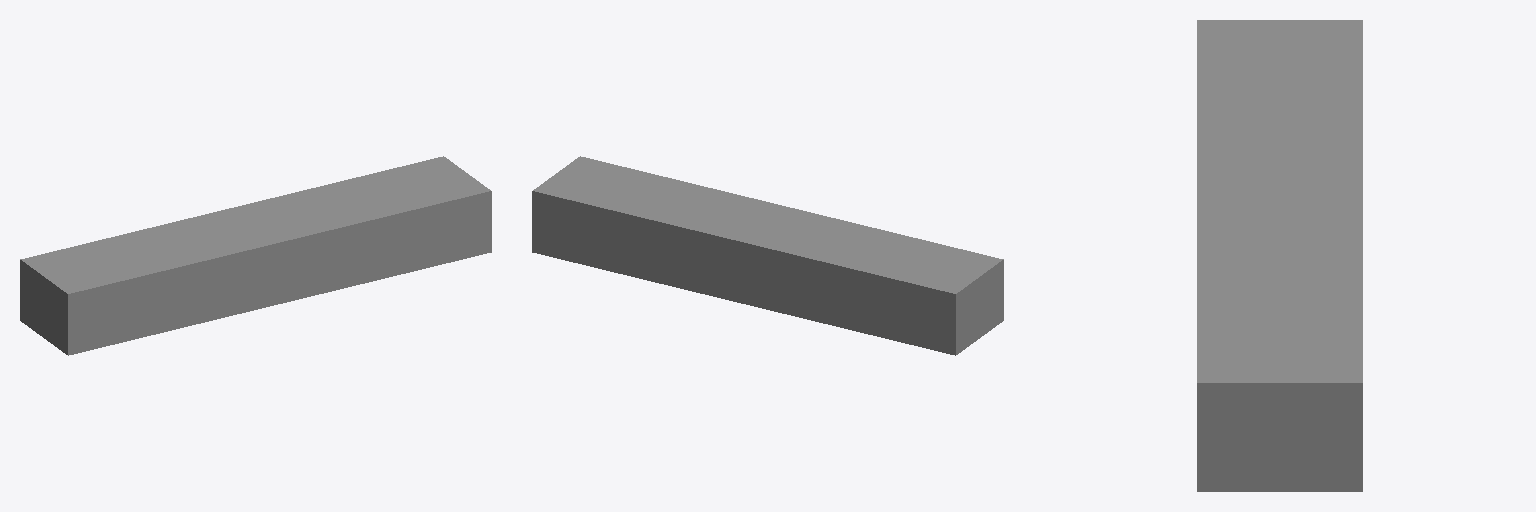
robot.urdf — rotary_slide_boom_1:
<?xml version='1.0' encoding='utf-8'?>
<robot name="rotary_slide_boom_1">
  <link name="boom_1">
    <inertial>
      <origin xyz="0.07500000000000001 4.592425496802575e-18 0.015000000000000013" rpy="0 0 0" />
      <mass value="1.2363750000000002" />
      <inertia ixx="0.00019060781249999326" iyy="0.0034026070312500045" izz="0.0034644257812500006" ixy="6.706835098831035e-19" iyz="3.469446951953614e-18" ixz="-2.1244235522607673e-34" />
    </inertial>
    <visual>
      <origin xyz="4.286263797015737e-18 -0.07 -0.24" rpy="0 0 -1.5707963267948966" />
      <geometry>
        <mesh filename="package://rotary_slide_description/meshes/boom_1.stl" scale="0.001 0.001 0.001" />
      </geometry>
      <material name="boom_1_material">
        <color rgba="0.6235294117647059 0.6235294117647059 0.6235294117647059 1" />
      </material>
    </visual>
    <collision>
      <origin xyz="4.286263797015737e-18 -0.07 -0.24" rpy="0 0 -1.5707963267948966" />
      <geometry>
        <mesh filename="package://rotary_slide_description/meshes/boom_1.stl" scale="0.001 0.001 0.001" />
      </geometry>
    </collision>
  </link>
</robot>

--- Facts derived from the render (not from the file) ---
Views: 3 orthographic renders of the robot side by side, from view 1: azimuth 30°, elevation 25°; view 2: azimuth 150°, elevation 25°; view 3: azimuth 270°, elevation 25°.
Robot: rotary_slide_boom_1 — 1 links, 0 joints (none); root link boom_1; default pose: all joints at 0.
Visible links, largest first — view 1: boom_1; view 2: boom_1; view 3: boom_1.
Boxes of the visible links, x1,y1,x2,y2 form: boom_1: (20,156,491,355); boom_1: (532,156,1003,355); boom_1: (1197,20,1362,491).
Size in the robot's own frame: 0.18 by 0.035 by 0.025 metres.
1 mesh visuals loaded from 1 distinct referenced files (1 binary STL).
